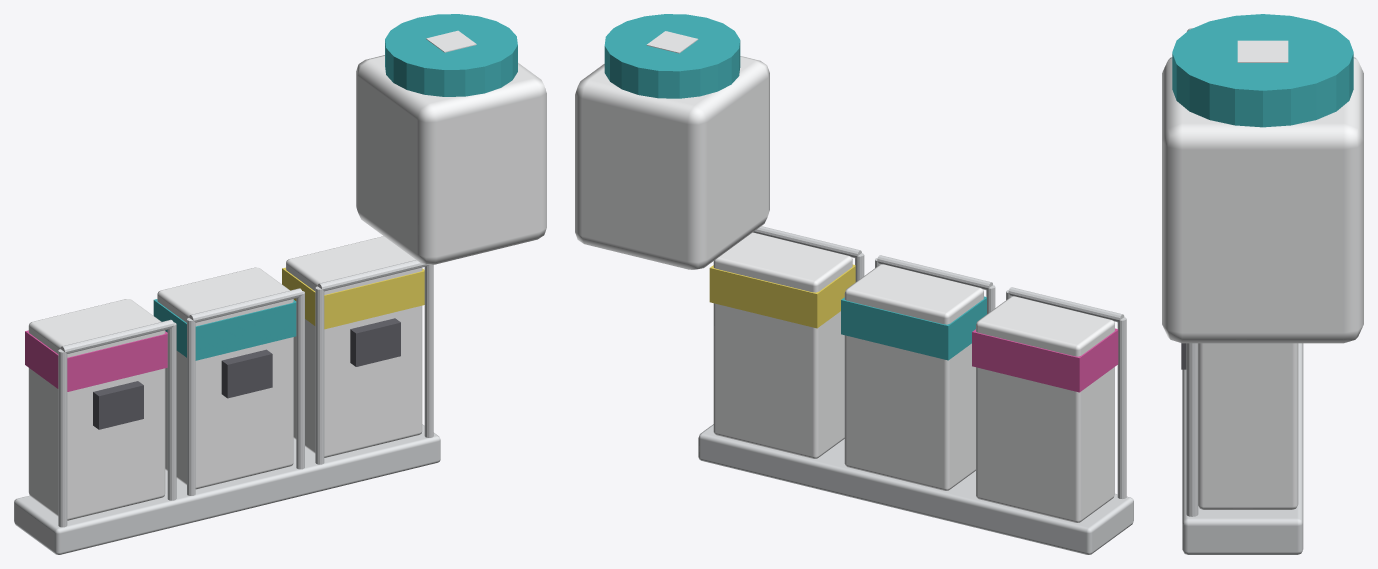
File: tattoo-and-piercing-studio-glove-and-wipe-dispenser-68cddb1f__34544.glb
The picture shows the model from 3 angles, left to right: view 1: azimuth 30°, elevation 25°; view 2: azimuth 150°, elevation 25°; view 3: azimuth 270°, elevation 25°; orthographic projection. The views are drawn at different scales.
Parts seen in each view (by area): view 1: glove-and-wipe-dispenser; view 2: glove-and-wipe-dispenser; view 3: glove-and-wipe-dispenser.
Boxes of the visible parts, box(x1,y1,x2,y2) form: glove-and-wipe-dispenser: box(14, 14, 546, 554); glove-and-wipe-dispenser: box(575, 14, 1133, 554); glove-and-wipe-dispenser: box(1162, 14, 1363, 554).
Bounding box in the file's own units: 0.76 × 0.5812 × 0.2.
